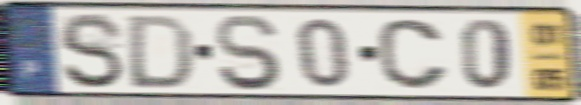0: (292, 16, 353, 91), (458, 16, 512, 93)
C: (374, 16, 452, 92)
D: (125, 12, 197, 91)
S: (56, 10, 128, 92), (214, 12, 284, 93)
